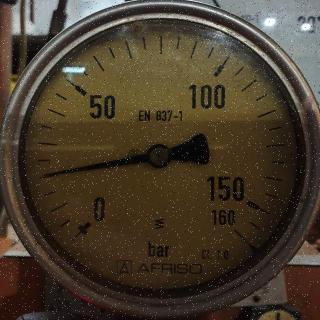gauge: (0, 0, 320, 320), (68, 207, 102, 245), (218, 213, 252, 247), (146, 142, 172, 168), (37, 170, 53, 182)
